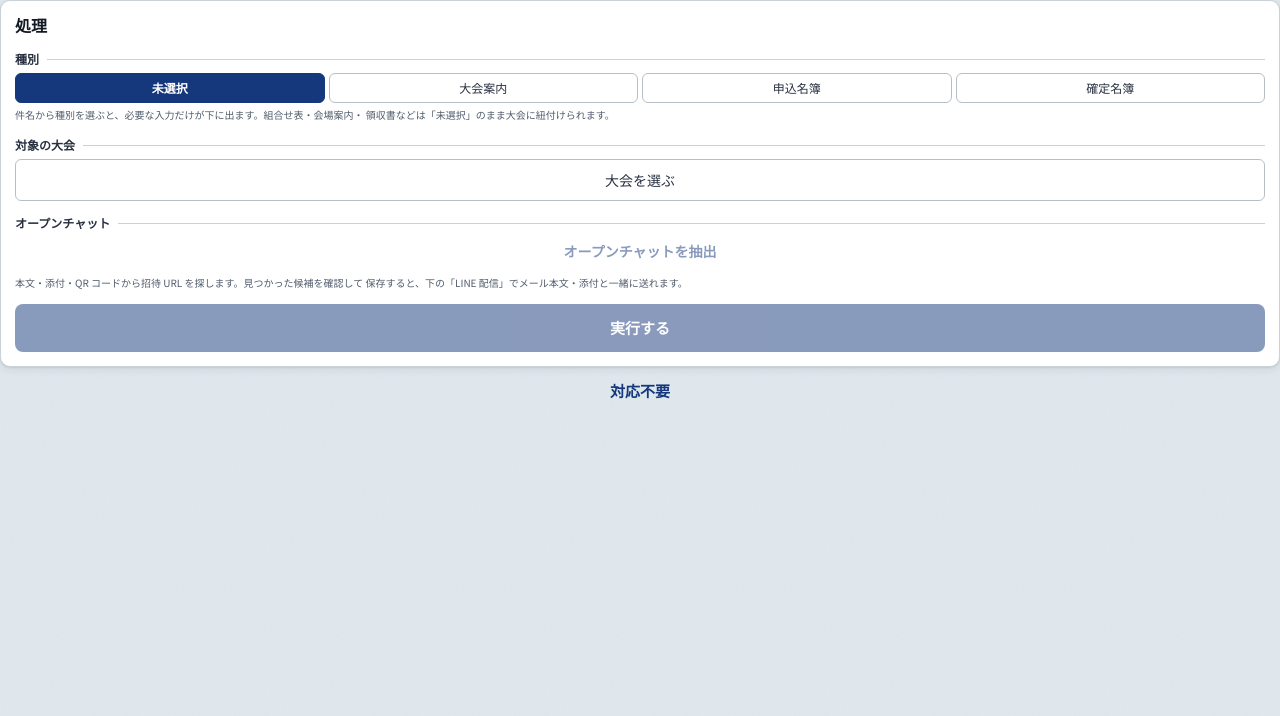
MailProcessForm — 会計へ振込連絡 › 種別＝確定名簿 ∧ グループ選択済みでセクションが出る（AC-31）
Click the button "確定名簿" at (1110, 88), box [956,73,1265,103]
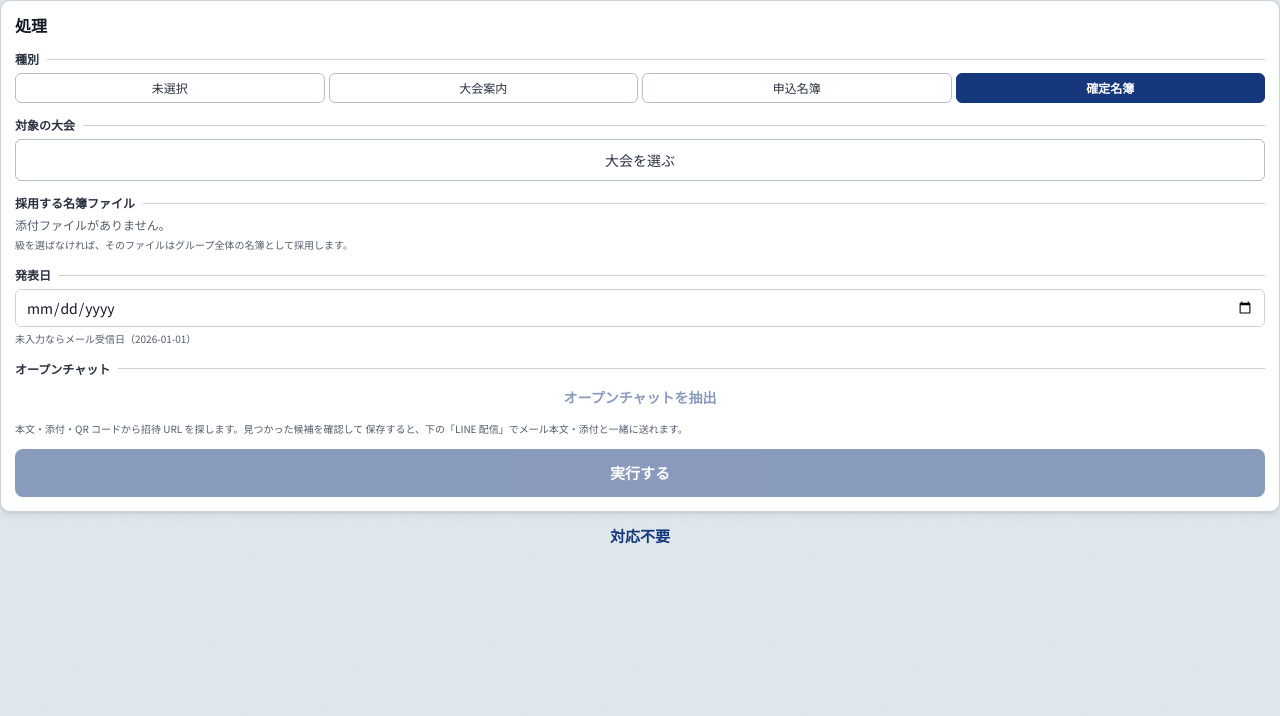
Click the button "大会を選ぶ" at (640, 160), box [15,139,1265,181]
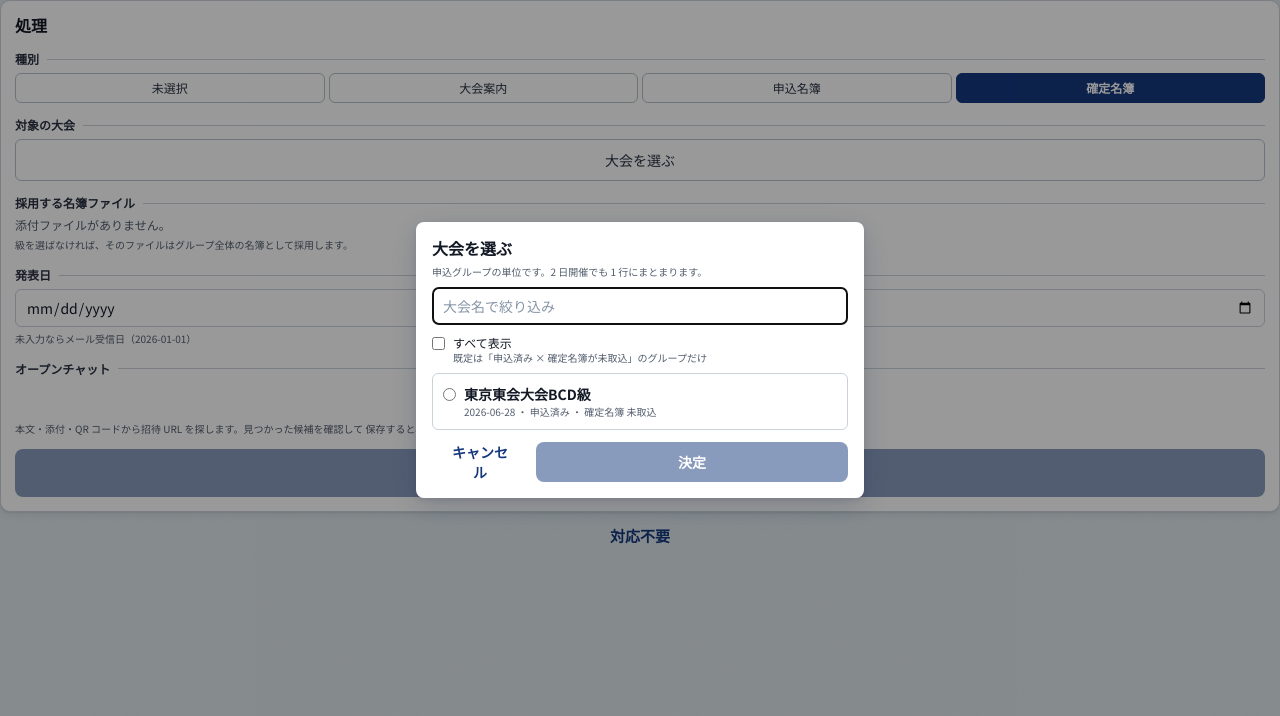
Click the radio button at (450, 394), box [443,388,456,401]
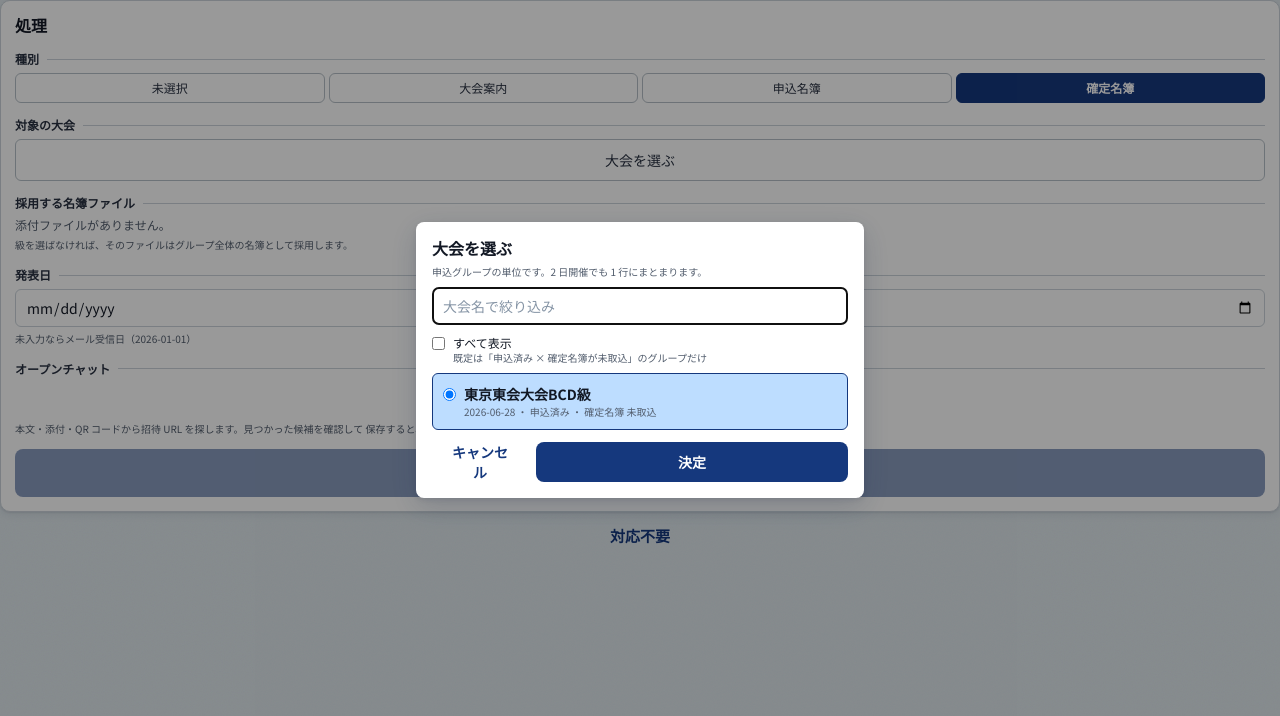
Click the button "決定" at (692, 462), box [536,442,848,482]
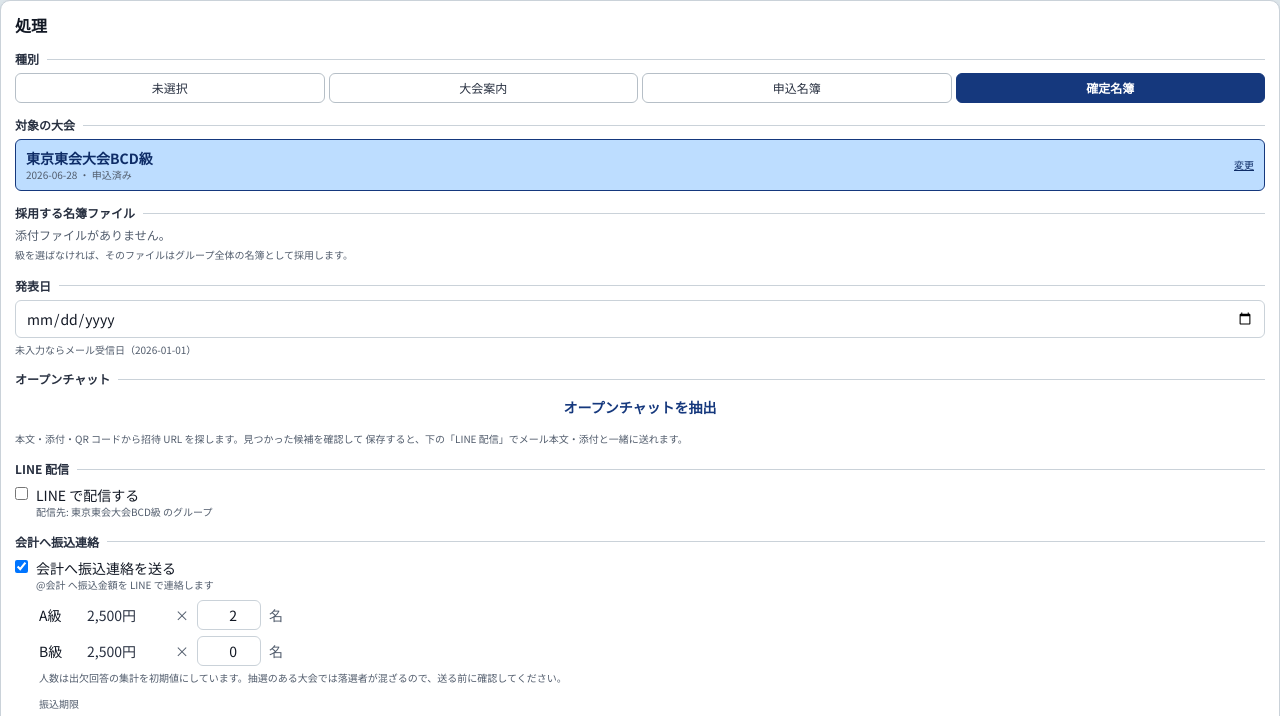
Check: the text "会計へ振込連絡" is shown, box [15,534,99,550]
